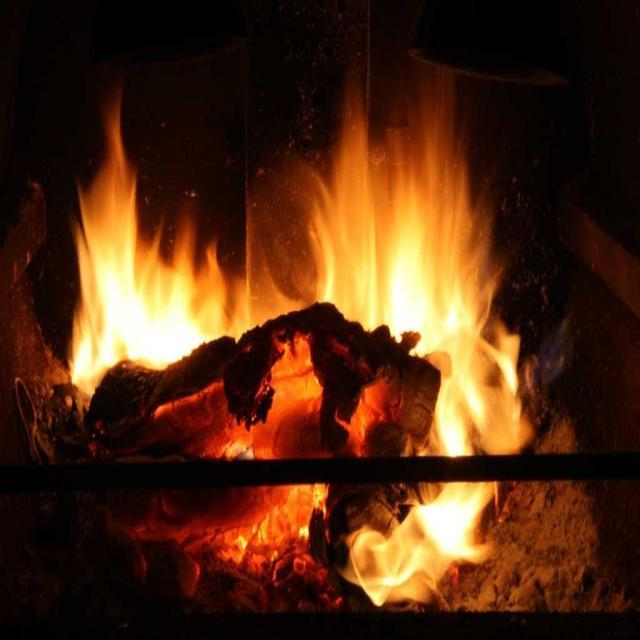Fire: (58, 91, 235, 356)
